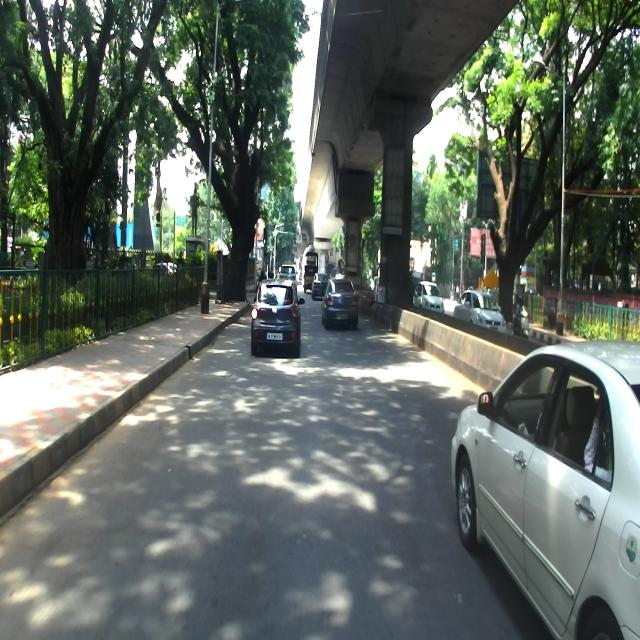car: (452, 339, 640, 638), (250, 275, 304, 358)
